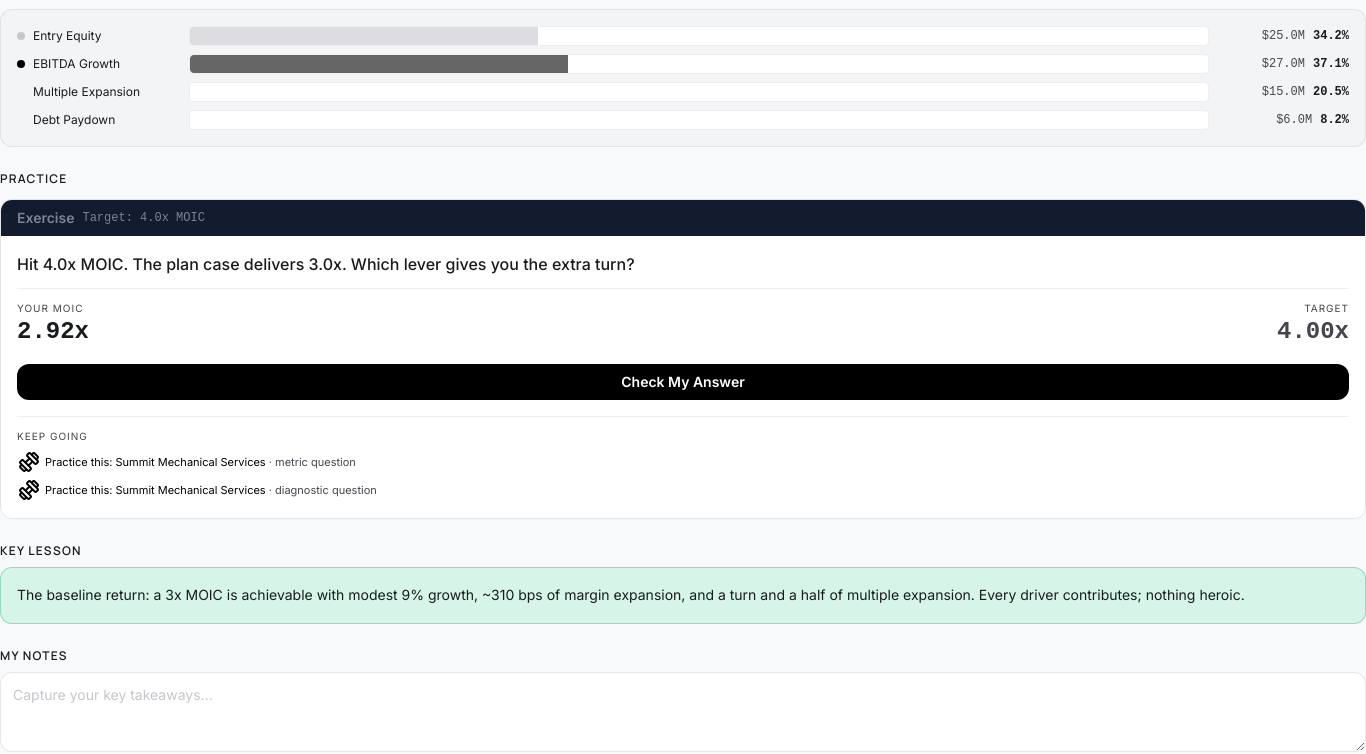
Test: BridgeCalculator › check exercise reports miss at plan baseline (3.0x vs 4.0x target)
The width and height of the screenshot is (1366, 754).
(page scrolled)
Click the button "Check My Answer": x=683, y=382 [17,364,1349,400]
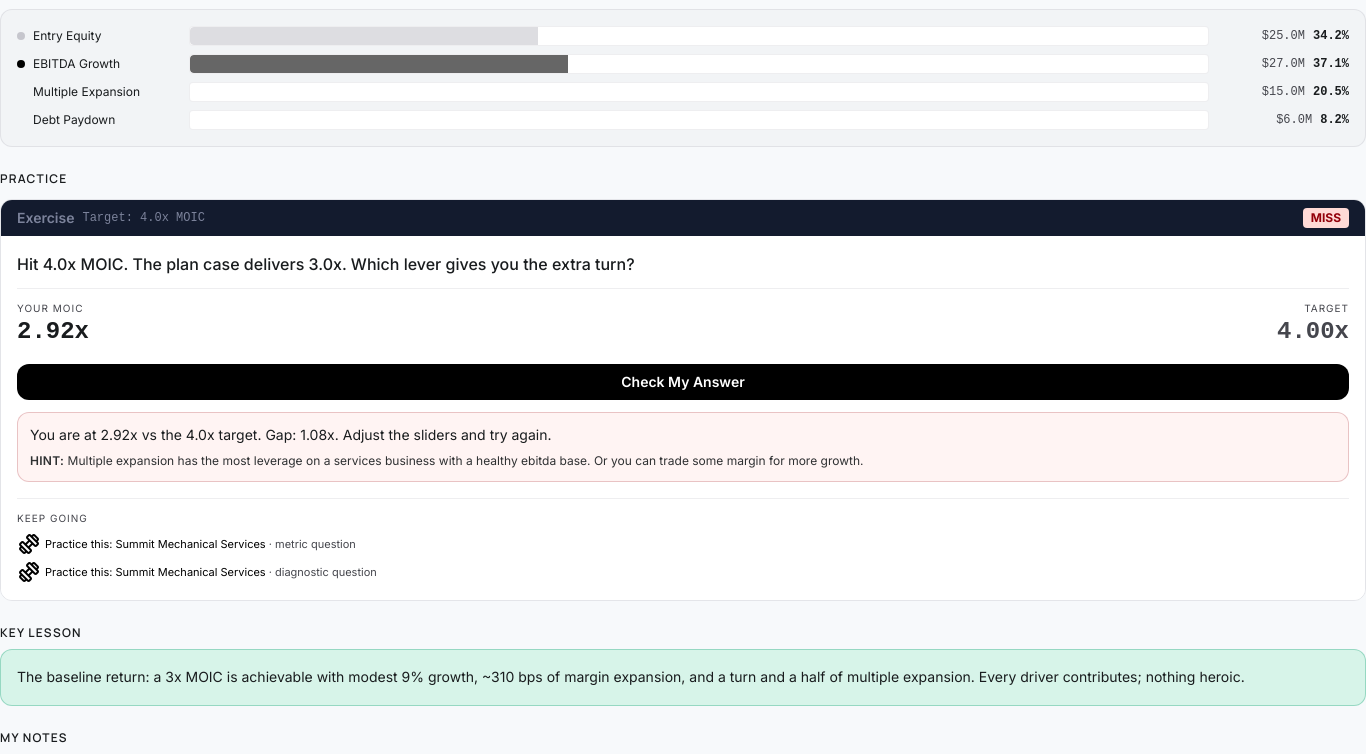
Check: the text "MISS" is shown, box [1303,208,1349,228]
Check: the text "Multiple expansion has the most leverage" is shown, box [68,453,864,468]
